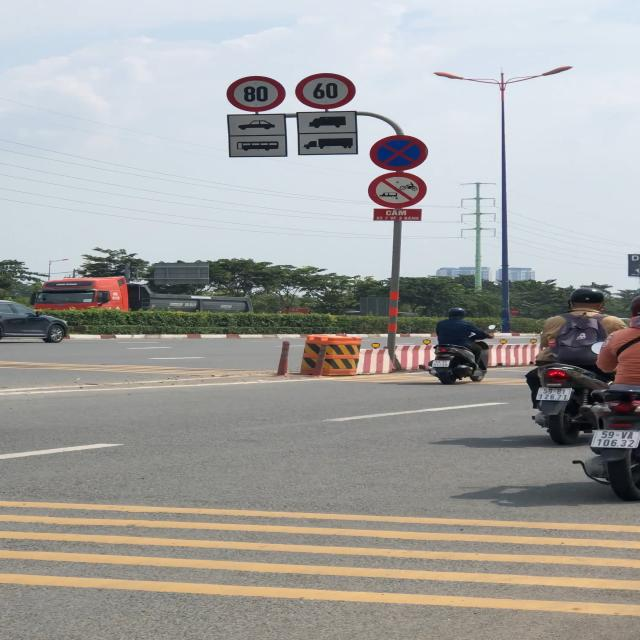Bien bao cam dung xe va do xe: (368, 131, 433, 172)
Bien bao toc do toi da cho phep: (291, 70, 360, 112), (222, 72, 292, 113)
